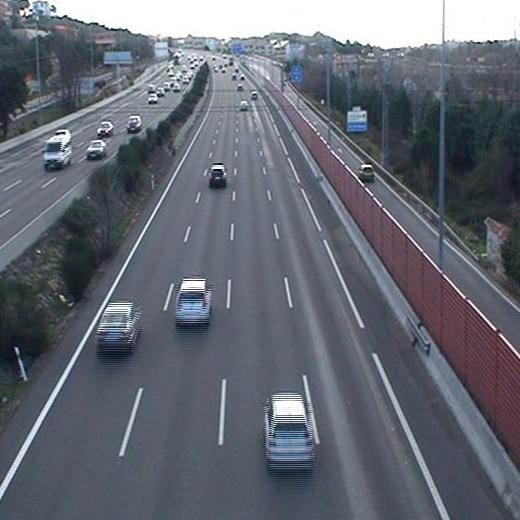car: (265, 391, 313, 466), (97, 303, 141, 354), (173, 277, 212, 326), (209, 163, 228, 185), (238, 100, 251, 111)
